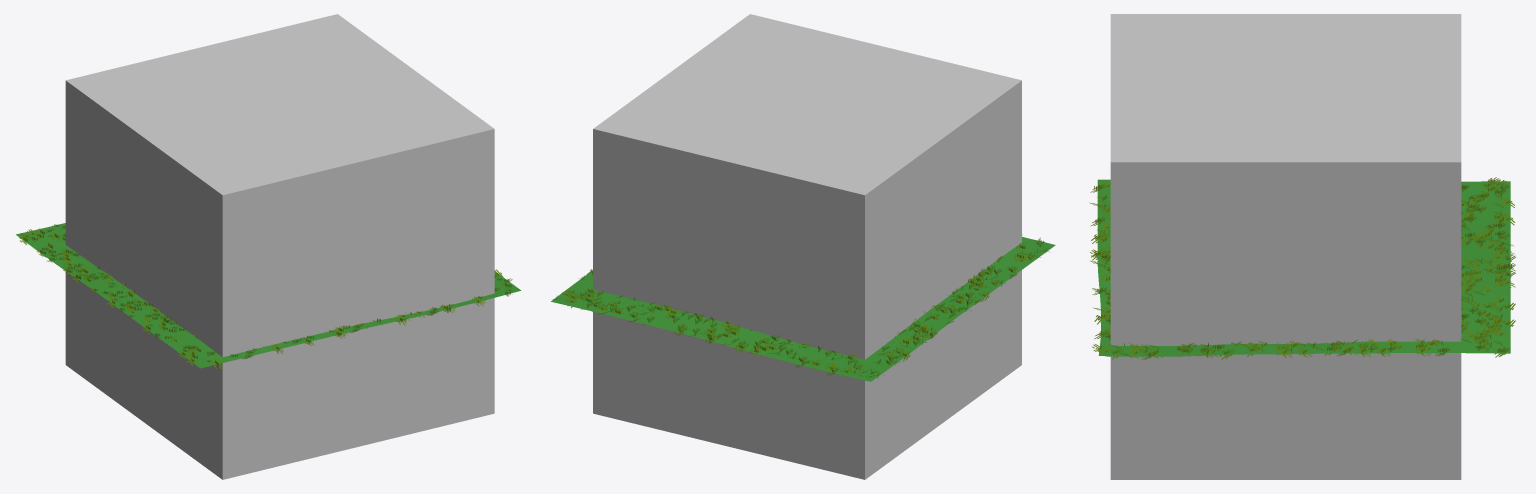
File: rumah.gltf
3 renders of one model, left to right at view 1: azimuth 30°, elevation 25°; view 2: azimuth 150°, elevation 25°; view 3: azimuth 270°, elevation 25°, orthographic. The views are drawn at different scales.
Parts seen in each view (by area): view 1: Cube.007, Plane.013; view 2: Cube.007, Plane.013; view 3: Cube.007, Plane.013.
Part boxes in pixels (<box>): Cube.007: <box>65,14,494,479</box>; Plane.013: <box>16,223,520,368</box>; Cube.007: <box>593,14,1021,479</box>; Plane.013: <box>551,237,1055,381</box>; Cube.007: <box>1110,14,1461,479</box>; Plane.013: <box>1097,179,1510,356</box>.
Bounding box in the file's own units: 123 × 99.19 × 124.
